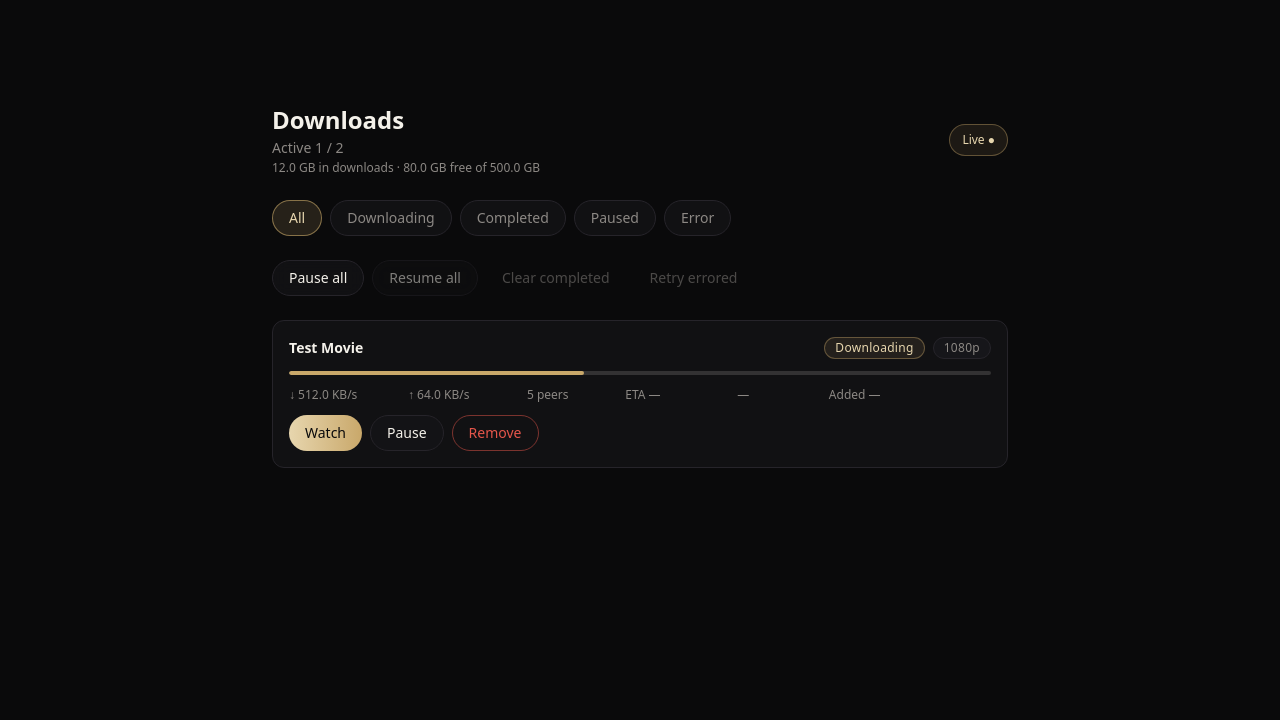
Test: DownloadsView › Remove defaults to deleting everything
This screenshot has width=1280, height=720.
Click the button "Remove": (495, 433) 452,415 -> 538,451
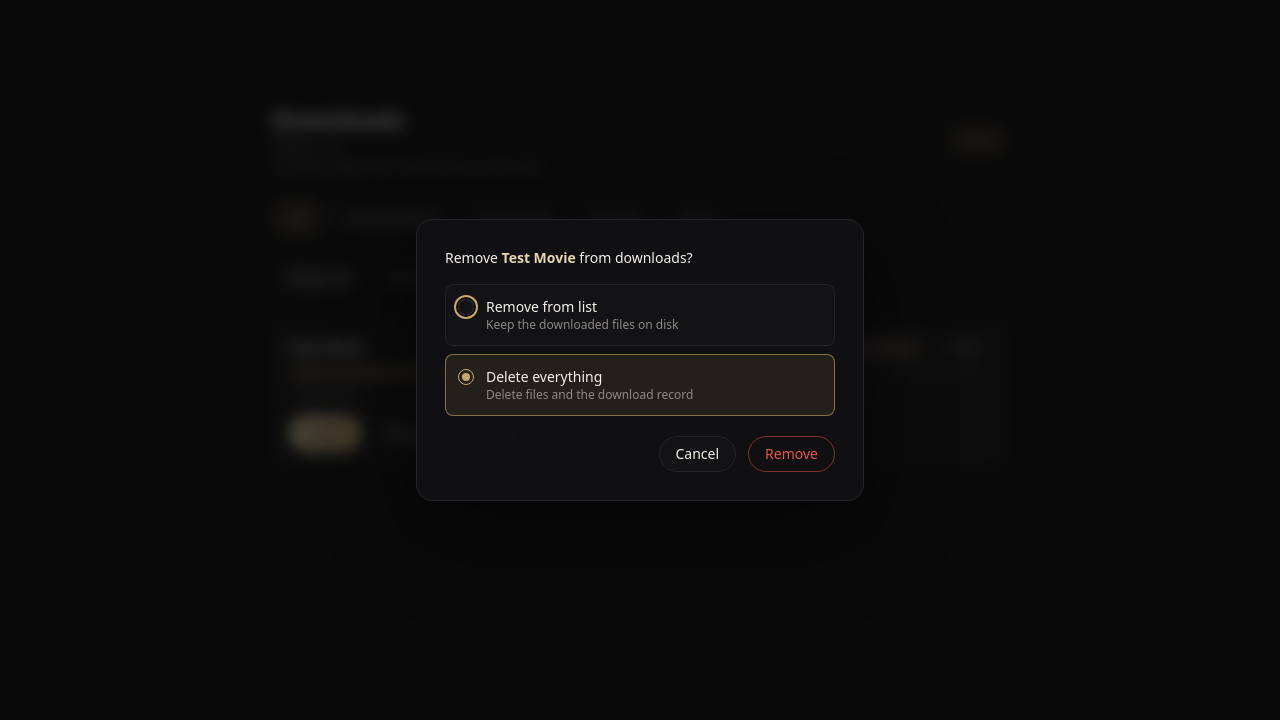
Expected: the radio button labelled "Delete everything Delete files and the download record" is checked, 445,354 -> 835,416
